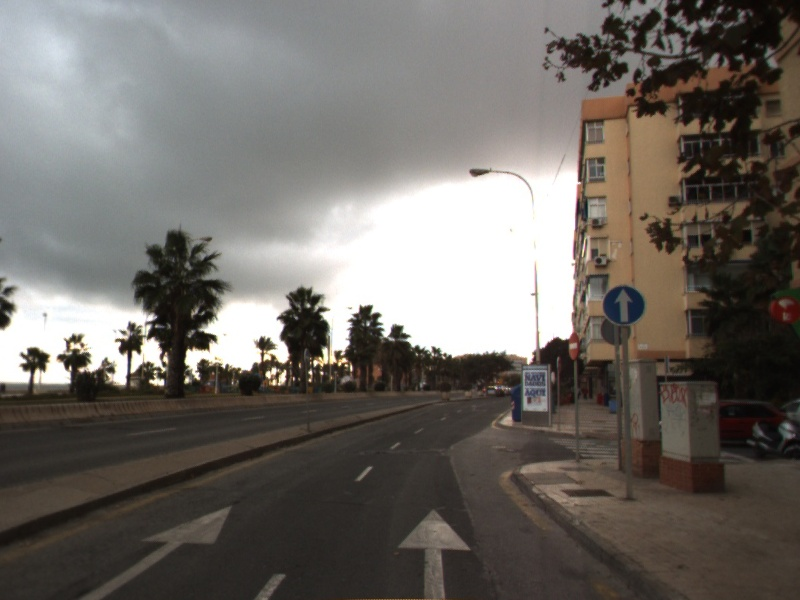STRAIGHT: (71, 503, 234, 600), (395, 507, 473, 600)
